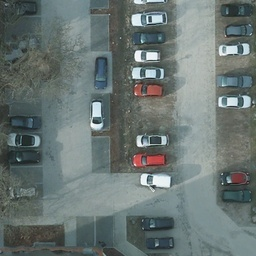car: (219, 1, 254, 17), (88, 98, 104, 132), (132, 11, 165, 27), (218, 169, 251, 185), (8, 115, 39, 131), (139, 172, 170, 188), (139, 216, 174, 230), (132, 49, 164, 64), (131, 31, 165, 45), (133, 133, 167, 147), (7, 132, 41, 146), (7, 1, 36, 17), (8, 184, 38, 199), (93, 53, 106, 87), (7, 150, 41, 163), (131, 154, 166, 166), (217, 95, 249, 108), (217, 76, 251, 88), (220, 189, 251, 202), (217, 43, 253, 54), (144, 236, 173, 249), (131, 85, 165, 96), (132, 68, 162, 80), (132, 0, 163, 5)
